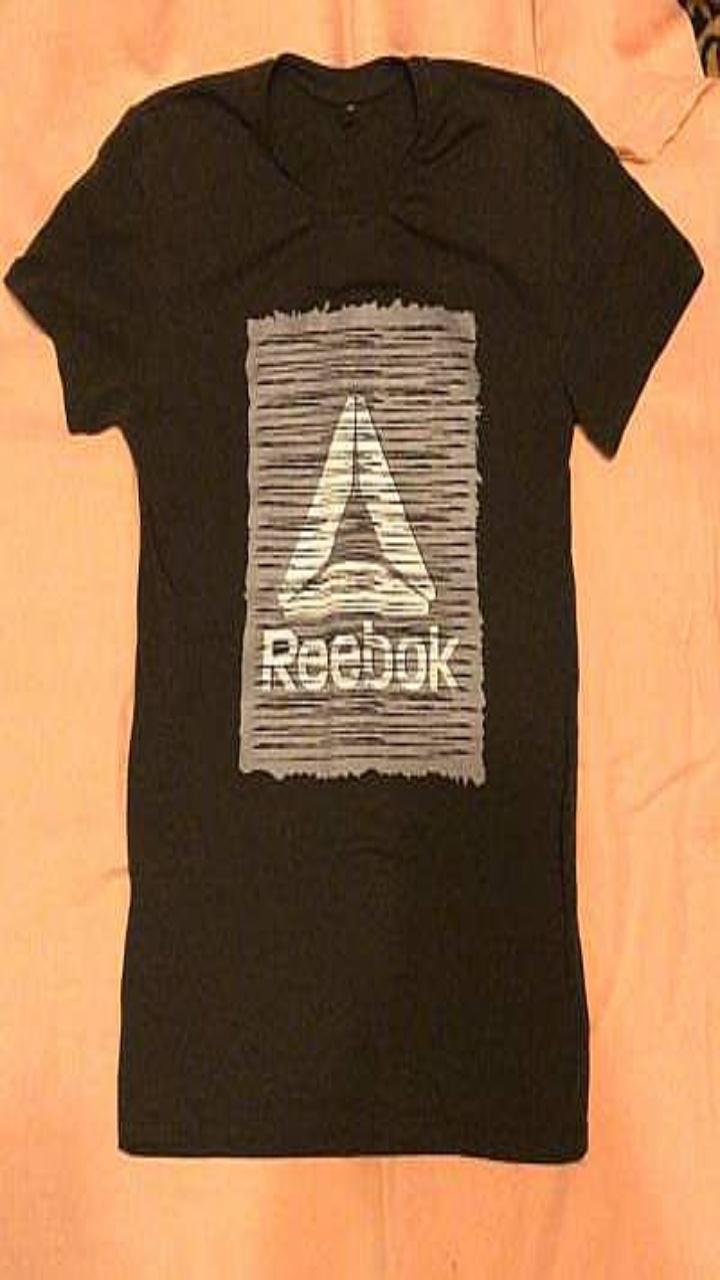T-Shirt: (4, 52, 702, 1161)
